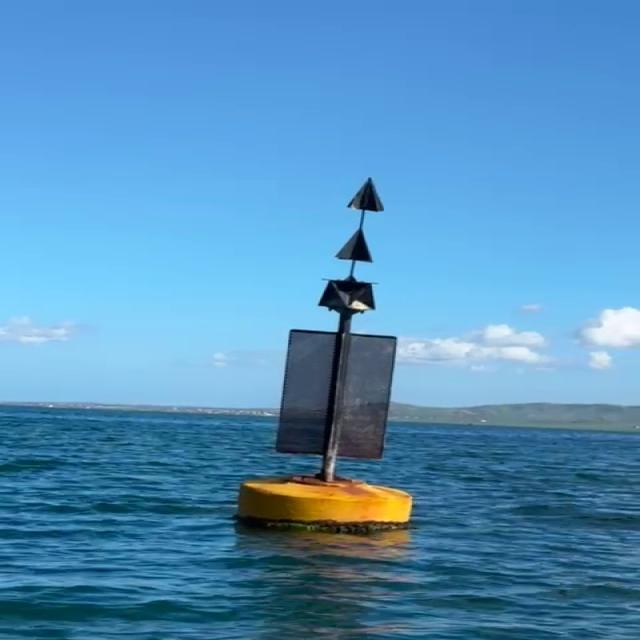marque: (217, 170, 432, 536)
